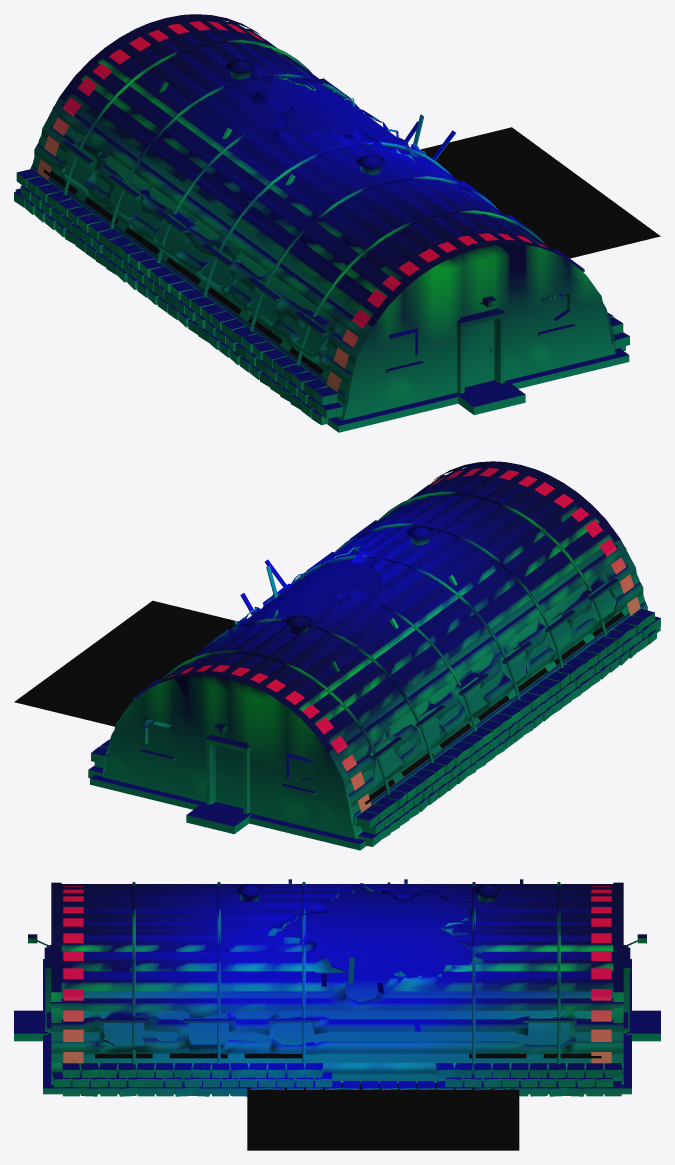
The model's file is quonset_damaged.glb.
3 views of the same model, one above another, from view 1: azimuth 30°, elevation 25°; view 2: azimuth 150°, elevation 25°; view 3: azimuth 270°, elevation 25° (orthographic). The views are drawn at different scales.
Visible parts, largest first — view 1: lod0; view 2: lod0; view 3: lod0.
Part boxes in pixels (x1=…): lod0: x1=14, y1=14, x2=660, y2=432; lod0: x1=14, y1=461, x2=660, y2=850; lod0: x1=14, y1=879, x2=660, y2=1150.
Size of what is drawn, in the model's own units: 13.7 by 4.72 by 19.03.
